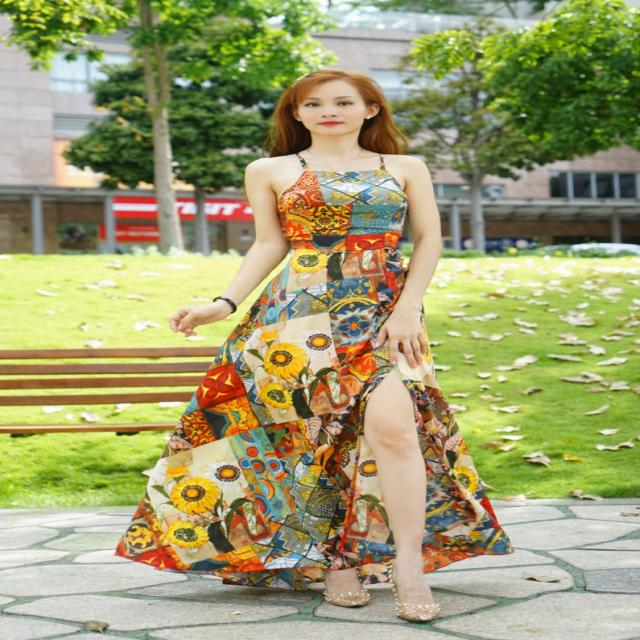clothes: (168, 146, 498, 551)
